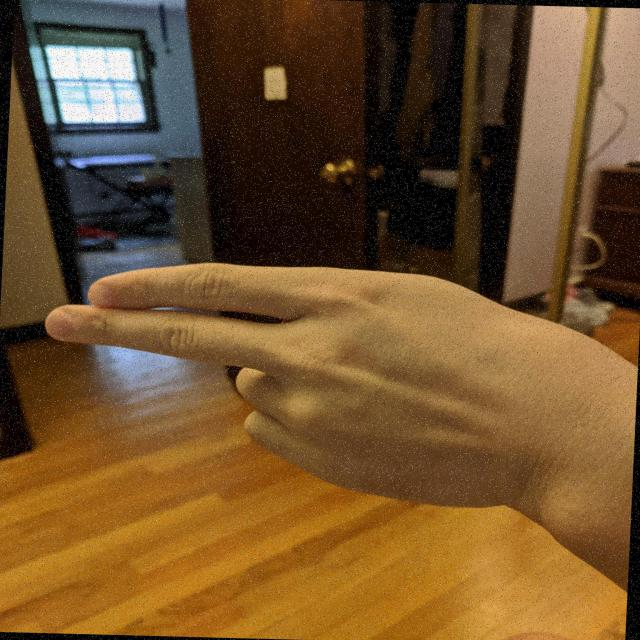H: (26, 251, 587, 517)
